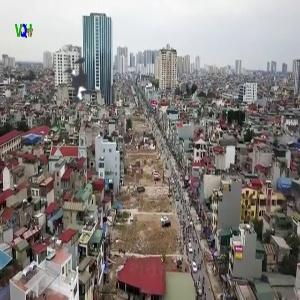drone: (36, 37, 127, 128)
